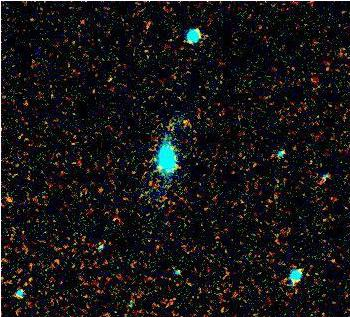star: (167, 100, 197, 130)
